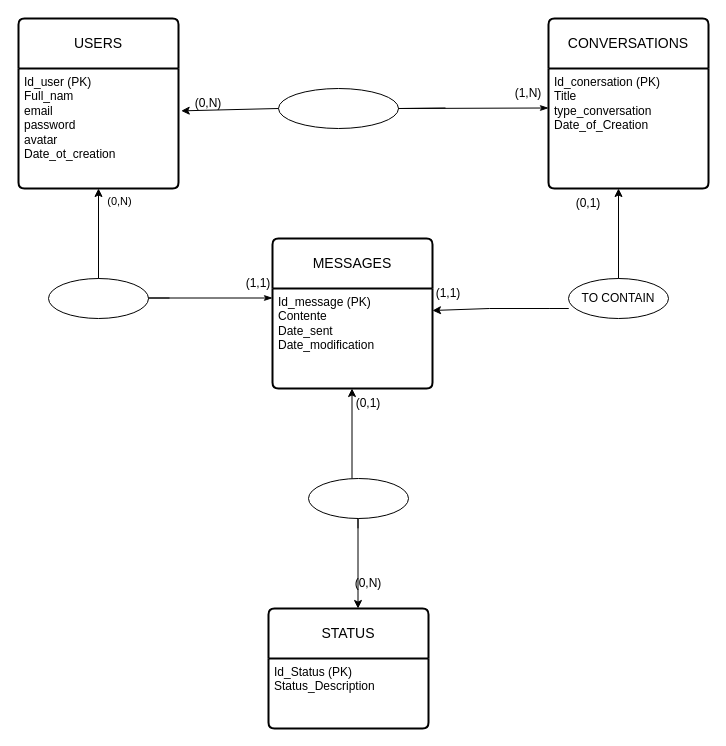
Some shapes in this 726 by 746 pixel diagram are drawn without their labels. The centre of each missing label's shape, as x and y in pixels:
"HAVE STATUS" belongs at (x=358, y=498).
"SEND" belongs at (x=98, y=298).
"TO PARTICIPATE IN" belongs at (x=338, y=108).
